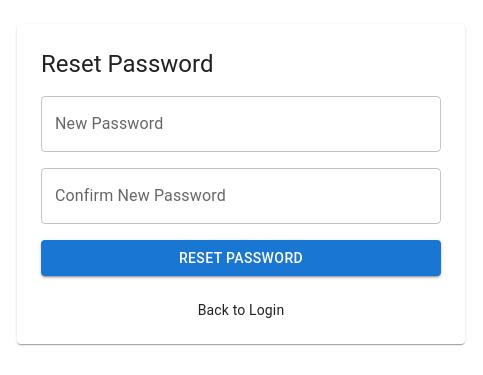
ResetPasswordForm › shows a validation error when the passwords do not match
Type "StrongPass1!" into the password field labelled "New Password" at [241, 124], box [41, 96, 441, 152]
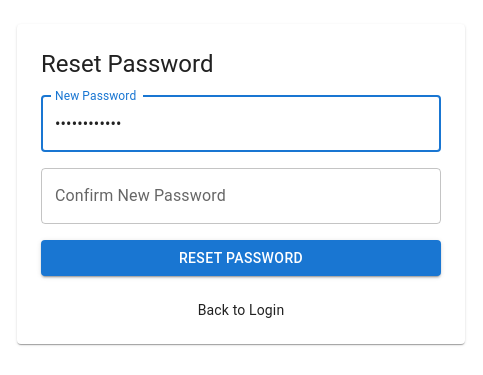
Type "StrongPass2!" into the password field labelled "Confirm New Password" at [241, 196], box [41, 168, 441, 224]
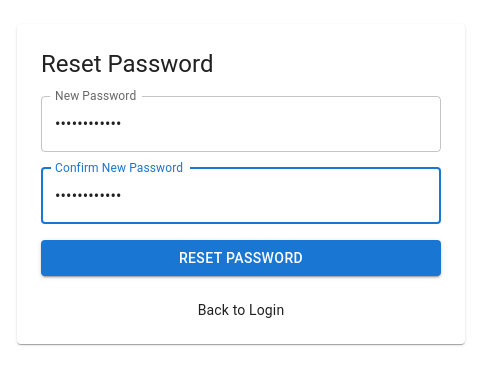
Click the button "Reset Password" at [241, 258], box [41, 240, 441, 276]
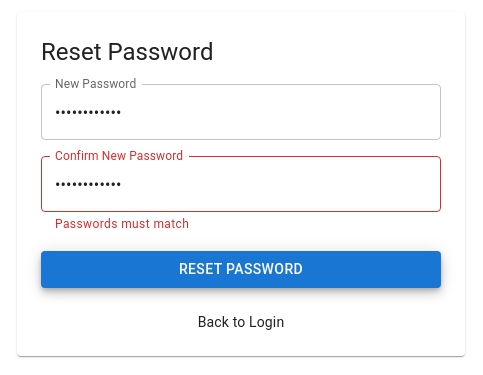
expect the text "Passwords must match" is shown: met, box [55, 217, 189, 231]
